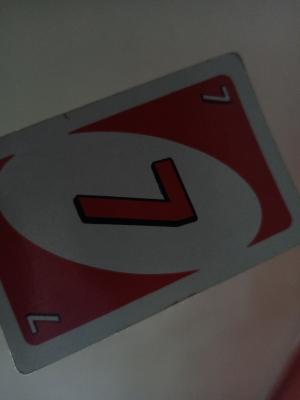num_7: (19, 303, 66, 343), (194, 82, 238, 112)
